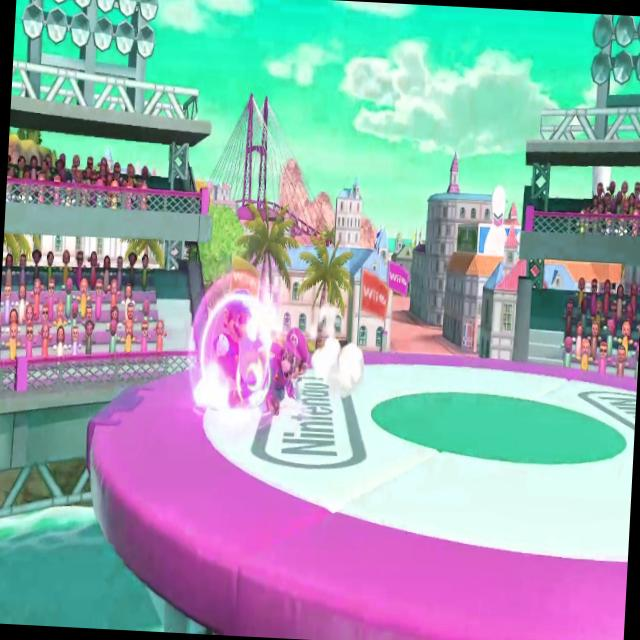Mario-DA: (228, 316, 313, 428)
Mario-guard: (207, 280, 262, 416)
